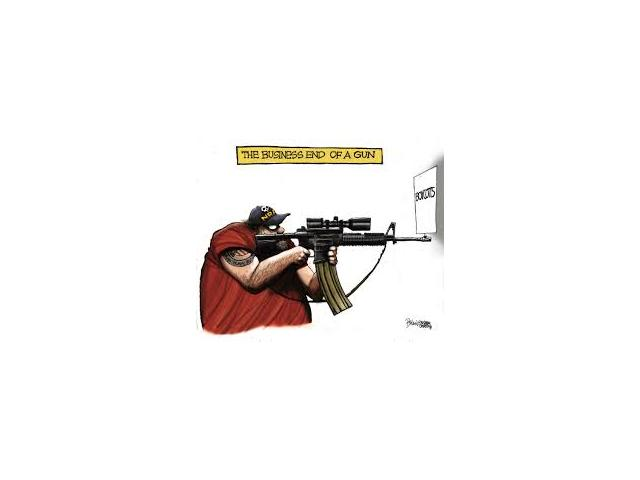rifle: (256, 218, 429, 311)
